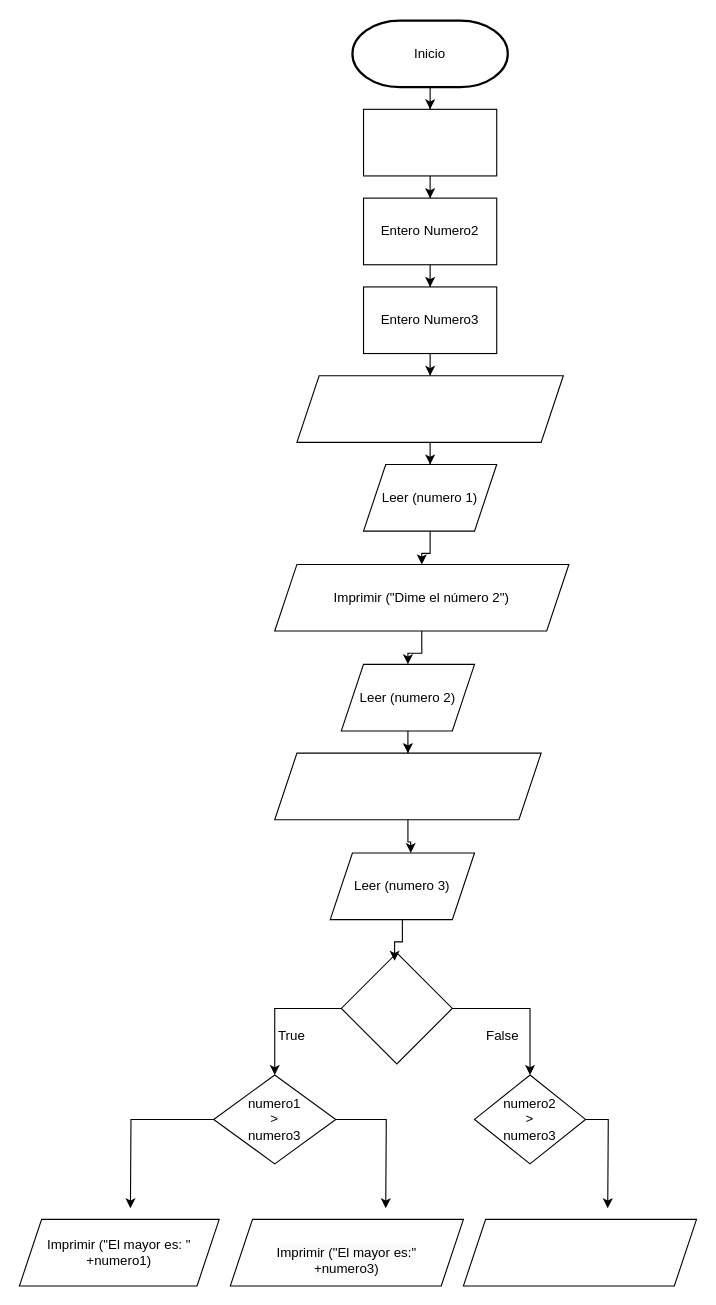
The diagram is 716 pixels wide and 1305 high, and some of its shapes have lost their labels. The box of each missing label's shape, as (x1, y1, x2, y2) in pixels:
Entero Numero1: (362, 108, 497, 176)
Imprimir ("Dime el número 1"): (296, 375, 563, 442)
Imprimir ("Dime el número 3"): (274, 752, 541, 820)
Imprimir ("El mayor es: " +numero2): (462, 1218, 697, 1286)
numero1 > numero2: (340, 952, 452, 1064)
